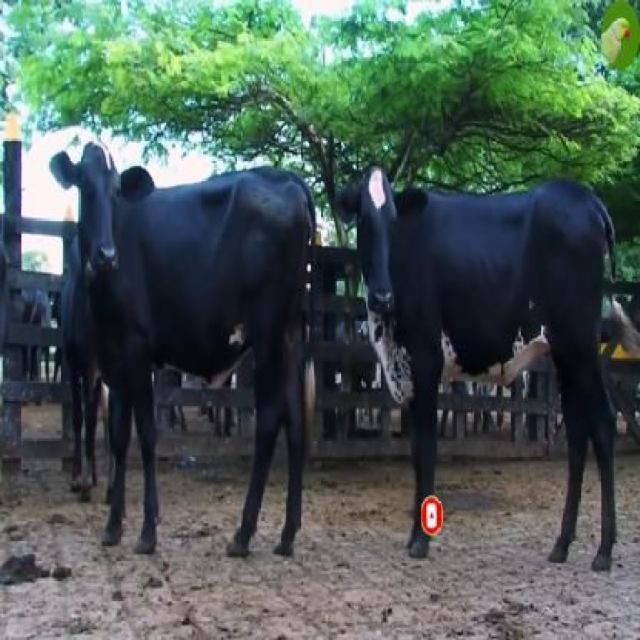Cow: (337, 154, 621, 578), (50, 137, 312, 565)
